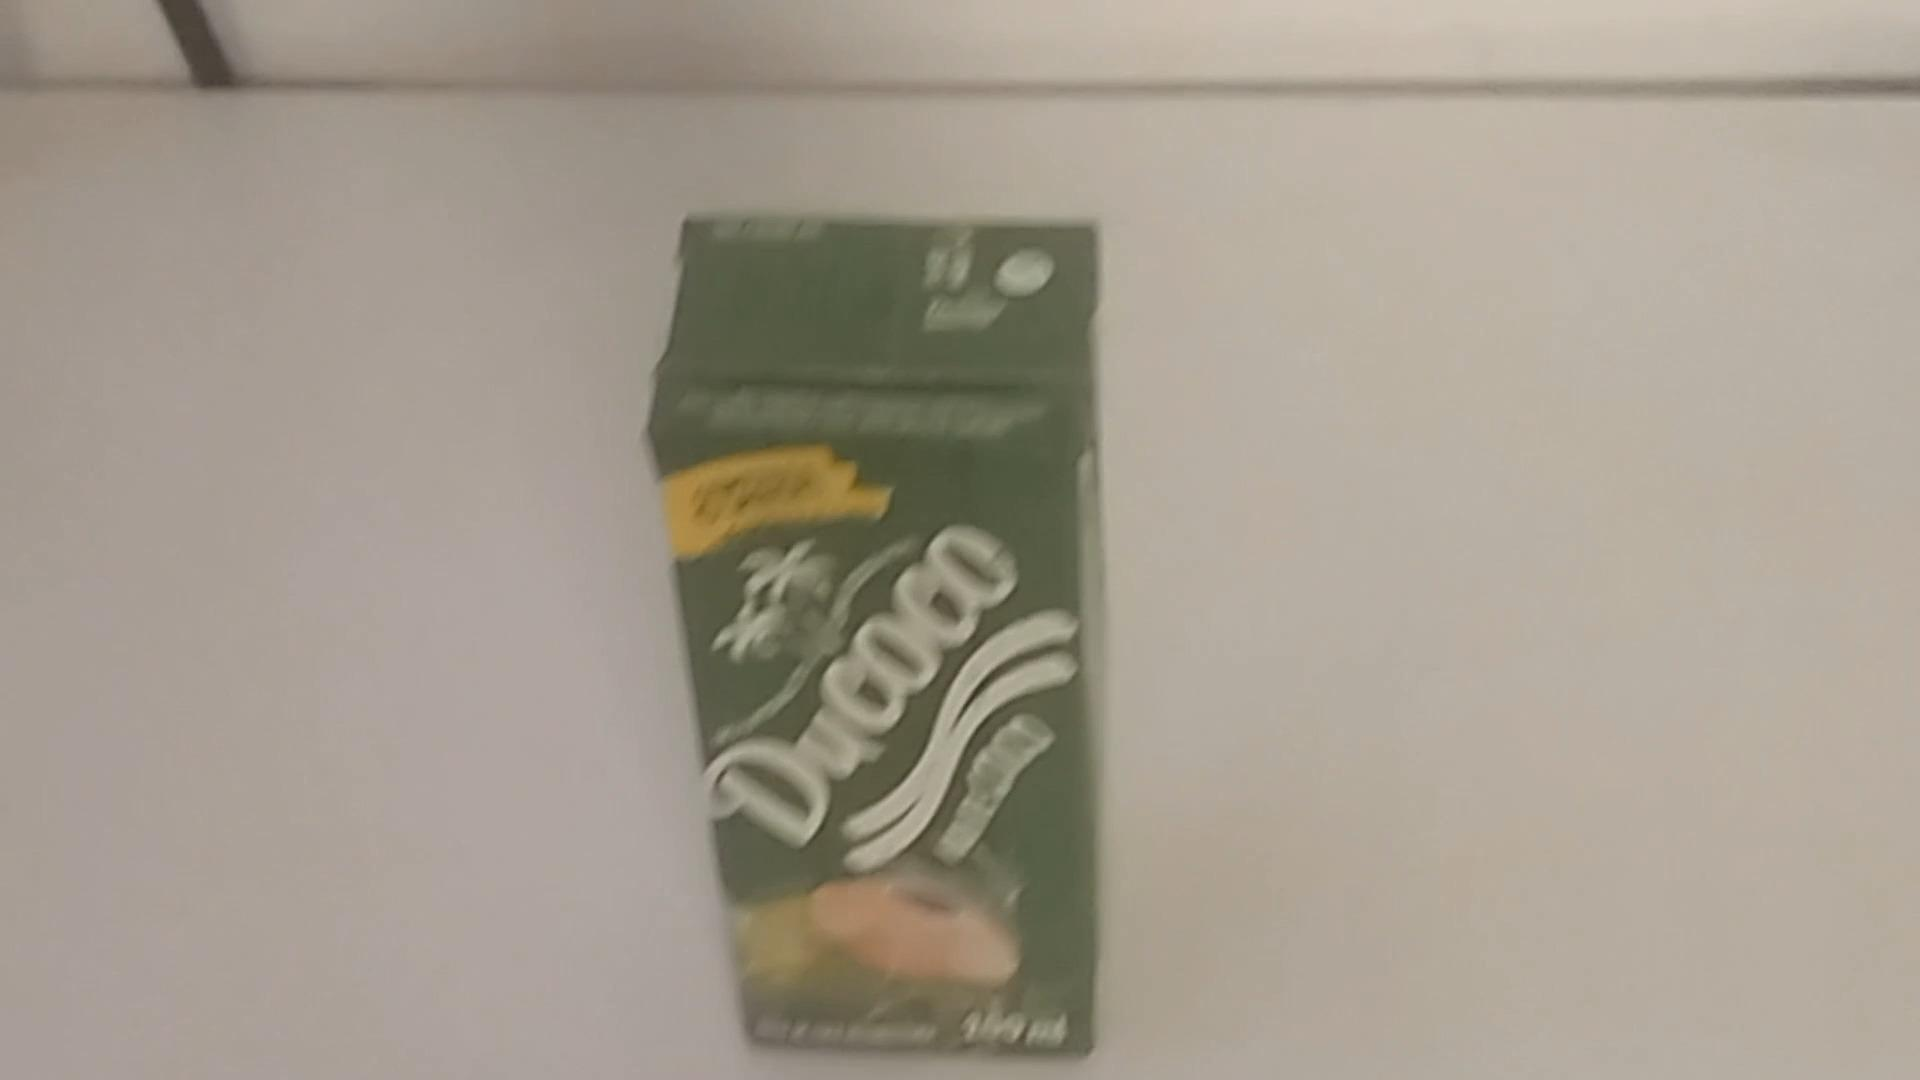coco: (645, 216, 1108, 1065)
